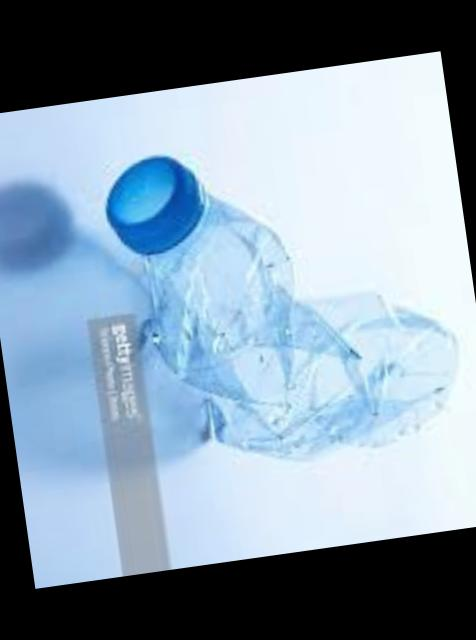plastic: (110, 155, 460, 454)
